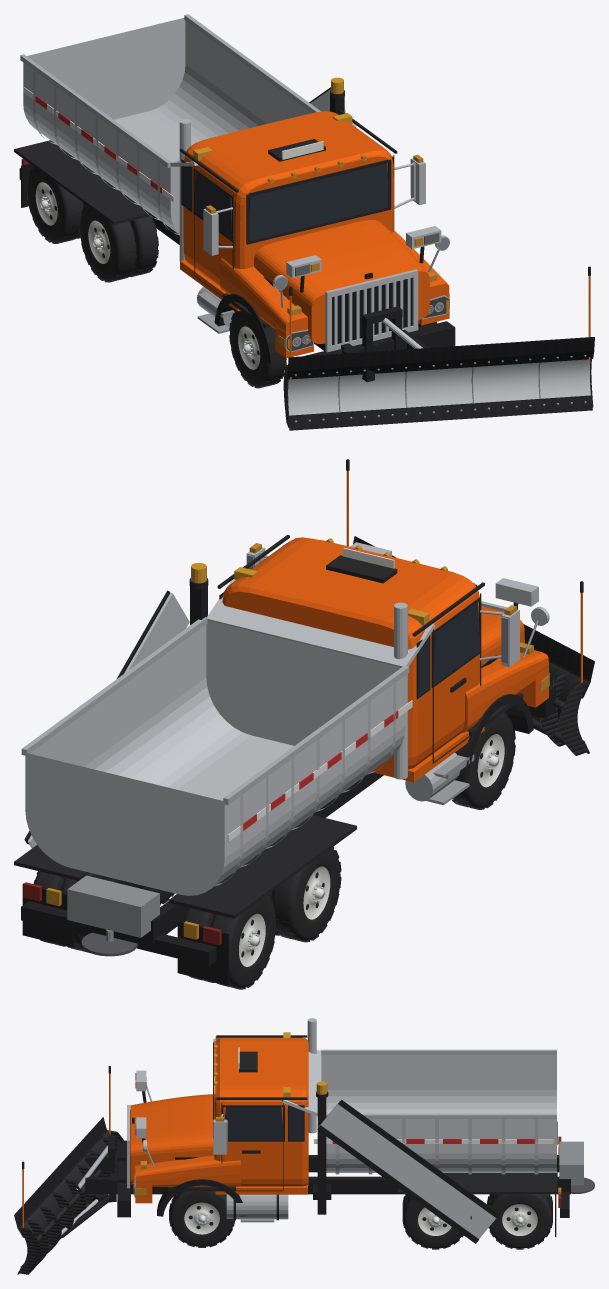
Rendered from snowplow.glb.
3 renders of one model, top to bottom at view 1: azimuth 30°, elevation 25°; view 2: azimuth 150°, elevation 25°; view 3: azimuth 270°, elevation 25°, orthographic. The views are drawn at different scales.
Parts seen in each view (by area): view 1: Body, Trim, Plow, Glass, Deflector, Wheel_RR, Wheel_RR2, Wheel_FR, Lamps; view 2: Body, Trim, Wheel_RR, Wheel_RR2, Wheel_FR, Plow, Glass, Lamps, Deflector, Wheel_RL2; view 3: Body, Trim, Plow, Wheel_RL2, Wheel_FL, Glass, Wheel_RL, Deflector, Lamps.
Part boxes in pixels (left/top/right/bottom): Body: left=23, top=18, right=449, bottom=358; Trim: left=14, top=14, right=455, bottom=382; Plow: left=283, top=266, right=594, bottom=430; Glass: left=181, top=162, right=388, bottom=240; Deflector: left=287, top=337, right=594, bottom=371; Wheel_RR: left=79, top=205, right=158, bottom=282; Wheel_RR2: left=26, top=166, right=85, bottom=243; Wheel_FR: left=229, top=310, right=286, bottom=388; Lamps: left=21, top=77, right=449, bottom=350; Body: left=25, top=537, right=548, bottom=895; Trim: left=14, top=535, right=555, bottom=985; Wheel_RR: left=269, top=846, right=341, bottom=942; Wheel_RR2: left=182, top=894, right=276, bottom=989; Wheel_FR: left=452, top=712, right=515, bottom=809; Plow: left=346, top=459, right=590, bottom=755; Glass: left=221, top=596, right=480, bottom=696; Lamps: left=23, top=538, right=549, bottom=945; Deflector: left=353, top=536, right=594, bottom=681; Wheel_RL2: left=33, top=871, right=108, bottom=952; Body: left=130, top=1037, right=556, bottom=1203; Trim: left=61, top=1018, right=594, bottom=1243; Plow: left=17, top=1066, right=123, bottom=1274; Wheel_RL2: left=487, top=1194, right=552, bottom=1249; Wheel_FL: left=169, top=1191, right=234, bottom=1247; Glass: left=224, top=1107, right=303, bottom=1140; Wheel_RL: left=402, top=1194, right=463, bottom=1249; Deflector: left=14, top=1117, right=106, bottom=1227; Lamps: left=133, top=1032, right=561, bottom=1207.
Bounding box in the file's own units: 4.05 × 3.06 × 9.45.
